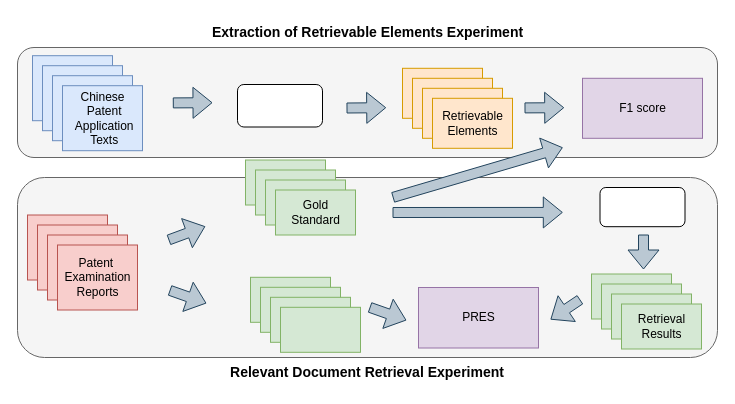
The diagram is 735 pixels wide and 404 high, and some of its shapes have lost their labels. Each missing label, with the centre of its shape:
"Extracion Methods" belongs at point 279,105.
"JSS" belongs at point 642,206.
"Relevant Documents" belongs at point 320,329.
